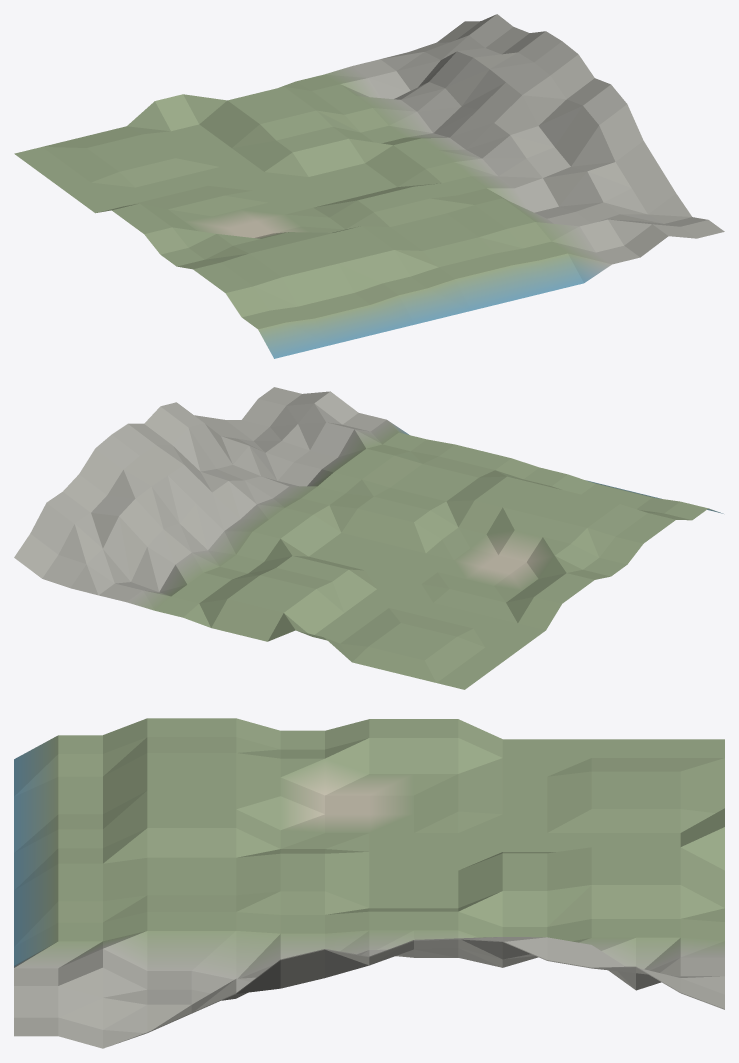
3 renders of one model, top to bottom at view 1: azimuth 30°, elevation 25°; view 2: azimuth 150°, elevation 25°; view 3: azimuth 270°, elevation 25°, orthographic. The views are drawn at different scales.
Bounding box in the file's own units: 32 × 6.02 × 32.
